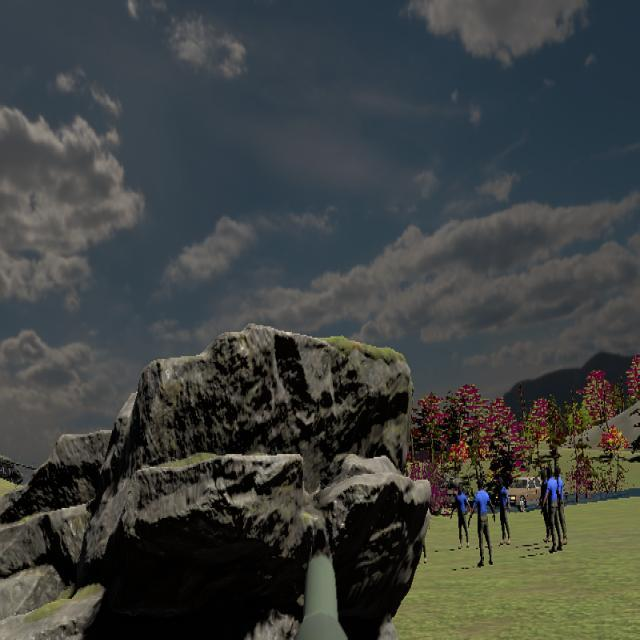Human: (468, 476, 496, 566), (542, 464, 562, 550), (542, 465, 561, 548), (450, 482, 472, 549), (493, 478, 512, 546)
car: (493, 476, 557, 510)
